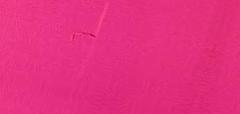snag: (66, 28, 101, 47)
